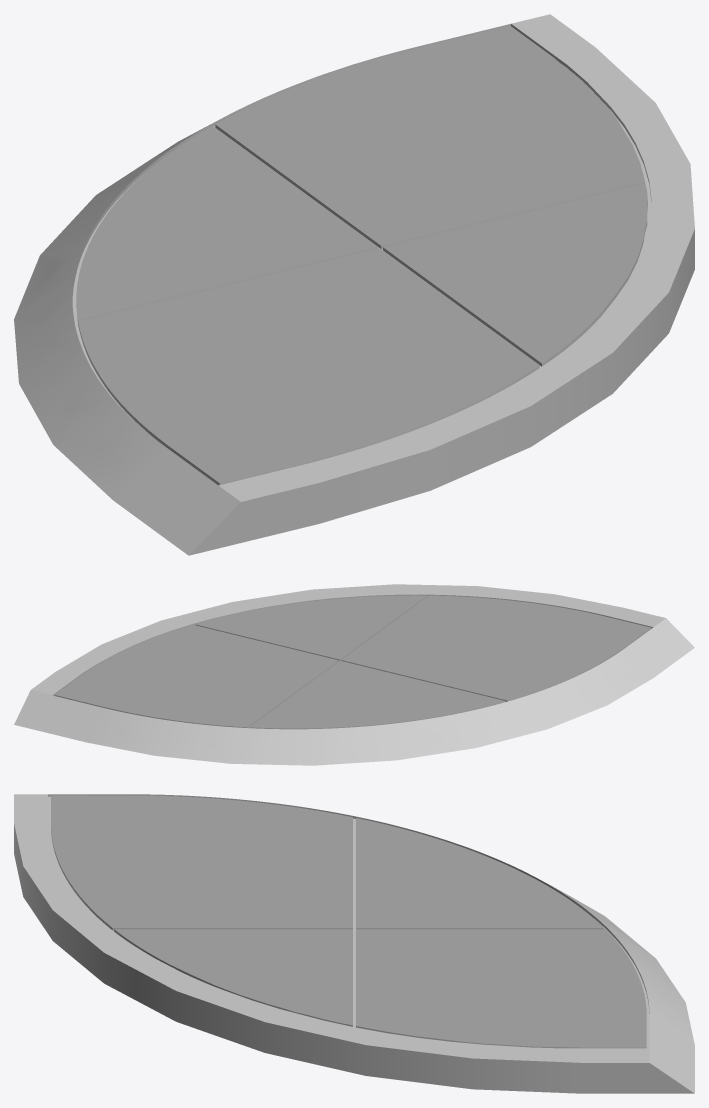
File: corner-island.glb
The picture shows the model from 3 angles, top to bottom: view 1: azimuth 30°, elevation 25°; view 2: azimuth 150°, elevation 25°; view 3: azimuth 270°, elevation 25°; orthographic projection. The views are drawn at different scales.
Visible parts, largest first — view 1: corner-island; view 2: corner-island; view 3: corner-island.
Part boxes in pixels (<box>): corner-island: <box>14,14,694,555</box>; corner-island: <box>14,584,694,765</box>; corner-island: <box>14,794,694,1093</box>.
Size of the model in its own units: 4.84 by 0.2419 by 4.84.
1 material, 1 textured.
